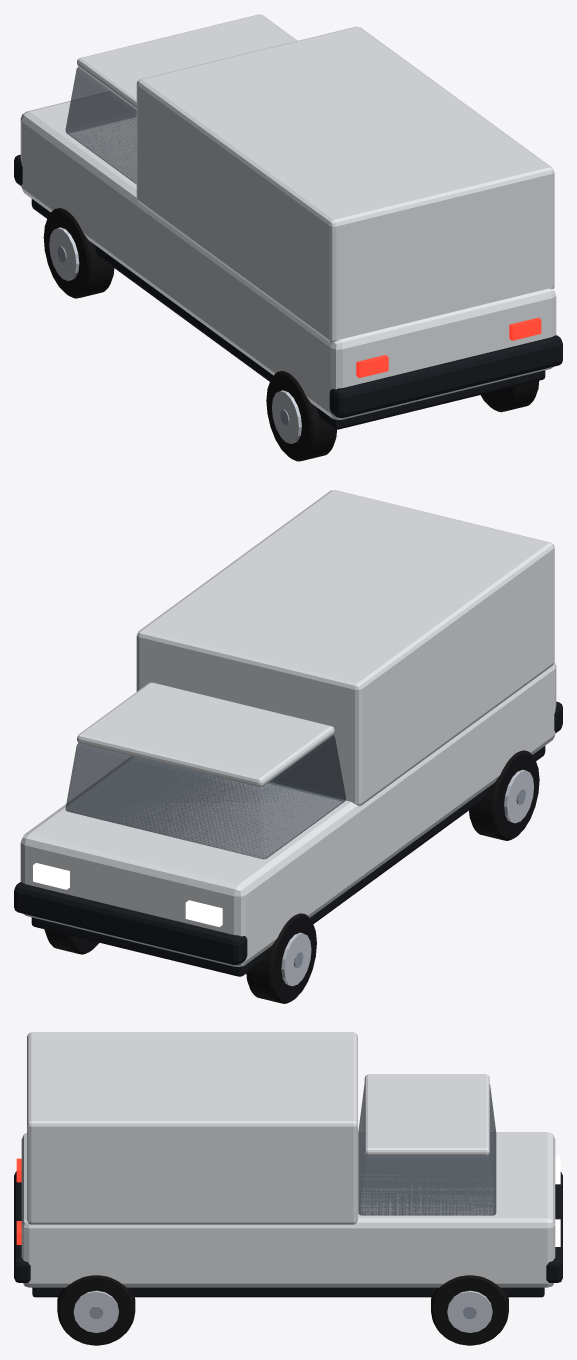
Rendered from veh_van.glb.
3 views of the same model, one above another, from view 1: azimuth 30°, elevation 25°; view 2: azimuth 150°, elevation 25°; view 3: azimuth 270°, elevation 25° (orthographic). The views are drawn at different scales.
Parts seen in each view (by area): view 1: Cargo, Body, Roof, Bumper_R, Glass, Skirt, Wheel_FL, Wheel_RL, Wheel_RL_Rim, Wheel_RR, Wheel_FL_Rim, Taillight_R (+1 smaller); view 2: Cargo, Body, Glass, Roof, Bumper_F, Skirt, Wheel_FL, Wheel_RL, Wheel_RL_Rim, Wheel_FL_Rim, Wheel_FR, Headlight_L (+1 smaller); view 3: Cargo, Body, Roof, Glass, Skirt, Wheel_RR, Wheel_FR, Wheel_FR_Rim, Wheel_RR_Rim, Bumper_R, Bumper_F.
Boxes of the visible parts, <box> form: Cargo: <box>136,26,554,342</box>; Body: <box>20,91,556,419</box>; Roof: <box>77,14,297,109</box>; Bumper_R: <box>329,335,562,417</box>; Glass: <box>65,67,136,184</box>; Skirt: <box>31,199,545,429</box>; Wheel_FL: <box>43,208,114,298</box>; Wheel_RL: <box>266,371,336,461</box>; Wheel_RL_Rim: <box>272,390,301,443</box>; Wheel_RR: <box>480,380,539,412</box>; Wheel_FL_Rim: <box>49,227,79,280</box>; Taillight_R: <box>509,317,541,340</box>; Cargo: <box>136,490,554,806</box>; Body: <box>20,661,556,966</box>; Glass: <box>65,735,345,859</box>; Roof: <box>77,682,334,787</box>; Bumper_F: <box>14,882,247,964</box>; Skirt: <box>31,746,545,976</box>; Wheel_FL: <box>246,913,316,1003</box>; Wheel_RL: <box>469,750,539,840</box>; Wheel_RL_Rim: <box>504,769,533,823</box>; Wheel_FL_Rim: <box>281,932,311,986</box>; Wheel_FR: <box>44,929,99,954</box>; Headlight_L: <box>185,900,222,926</box>; Cargo: <box>27,1032,357,1224</box>; Body: <box>21,1132,555,1287</box>; Roof: <box>364,1074,489,1155</box>; Glass: <box>358,1084,496,1215</box>; Skirt: <box>32,1287,544,1297</box>; Wheel_RR: <box>57,1275,135,1345</box>; Wheel_FR: <box>431,1275,508,1345</box>; Wheel_FR_Rim: <box>447,1290,492,1332</box>; Wheel_RR_Rim: <box>73,1290,118,1332</box>; Bumper_R: <box>14,1171,30,1282</box>; Bumper_F: <box>546,1172,562,1282</box>.
Size of the model in its own units: 2.11 by 2.26 by 5.04.
